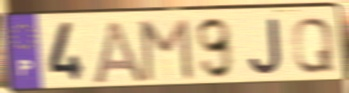4: (46, 19, 91, 87)
9: (193, 16, 237, 81)
A: (89, 18, 149, 86)
J: (247, 16, 284, 77)
M: (139, 16, 196, 83)
Q: (290, 15, 337, 75)
